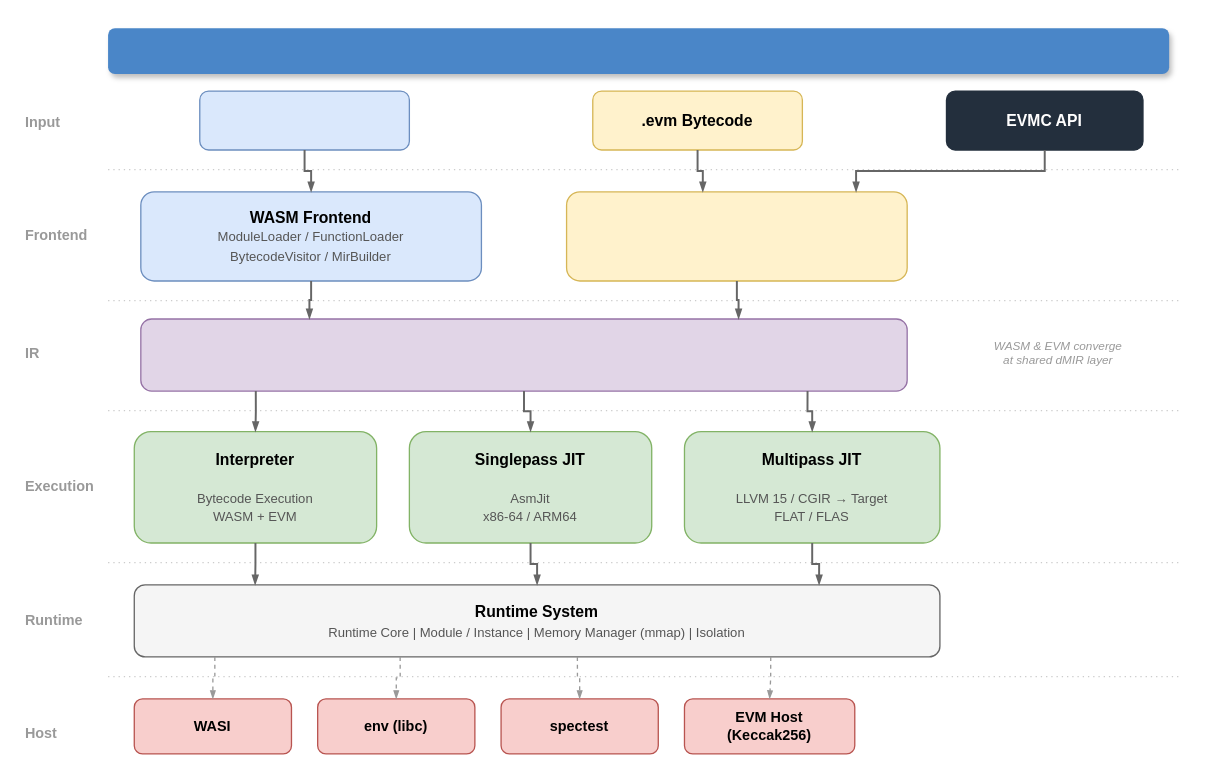
The diagram is 1207 pixels wide and 777 high, and some of its shapes have lost their labels. The shapes that lost their labels are listed below. From the top down, each one's centre as x and y in pixels, then its label:
(x=639, y=52): DTVM (ZetaEngine) - Overall Architecture
(x=303, y=120): .wasm File
(x=736, y=236): EVM Frontend EVMModuleLoader EVMMirBuilder / EVMFrontendContext
(x=523, y=354): dMIR (Deterministic MIR) MModule / MFunction / MBasicBlock / MInstruction
